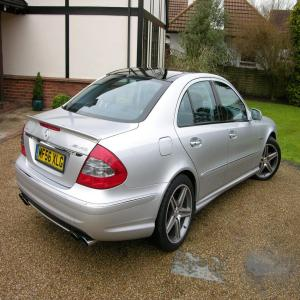Vehicle-registration-plate: (36, 146, 64, 171)
